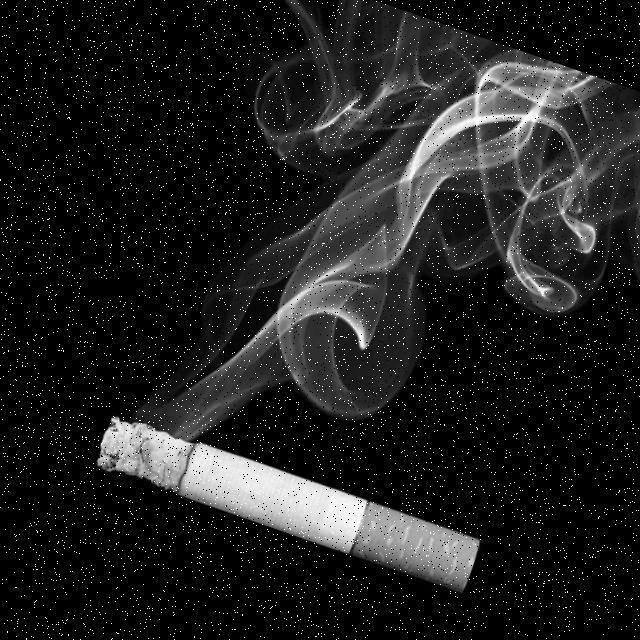cigarette: (90, 390, 488, 600)
